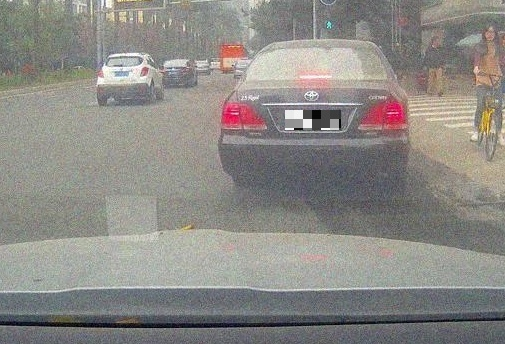L_light: (221, 102, 268, 130), (97, 67, 105, 78)
R_light: (358, 101, 406, 129), (139, 66, 148, 76)
T_light: (298, 73, 332, 80), (120, 56, 129, 59)
day-brake: (217, 39, 410, 185)
day-no: (97, 52, 149, 105)
plate_1: (285, 110, 341, 130)
